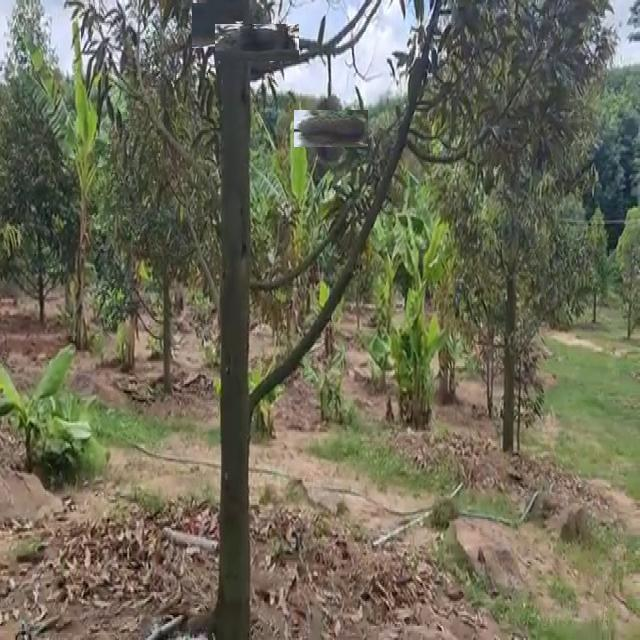durian: (227, 12, 287, 72), (303, 100, 359, 156), (194, 1, 242, 50)
